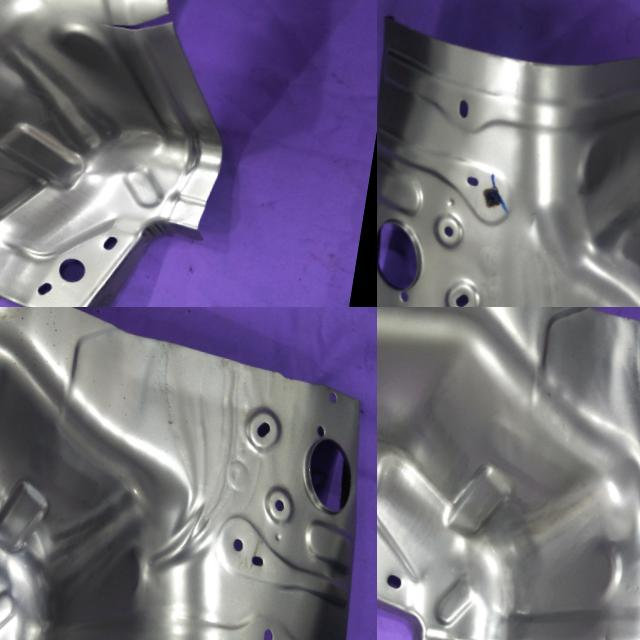Defect: (93, 0, 182, 45), (583, 604, 630, 640)
Healthy: (377, 2, 640, 307)
